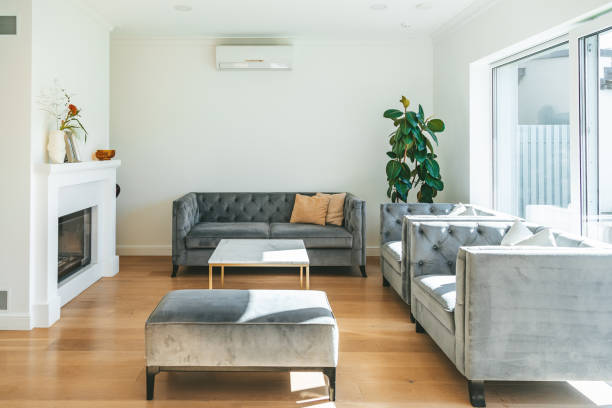chair: (406, 216, 612, 407), (377, 200, 523, 303)
flower vase: (43, 70, 88, 162)
large plant: (381, 95, 448, 204)
sofa: (168, 189, 368, 278)
table: (206, 232, 314, 288)
